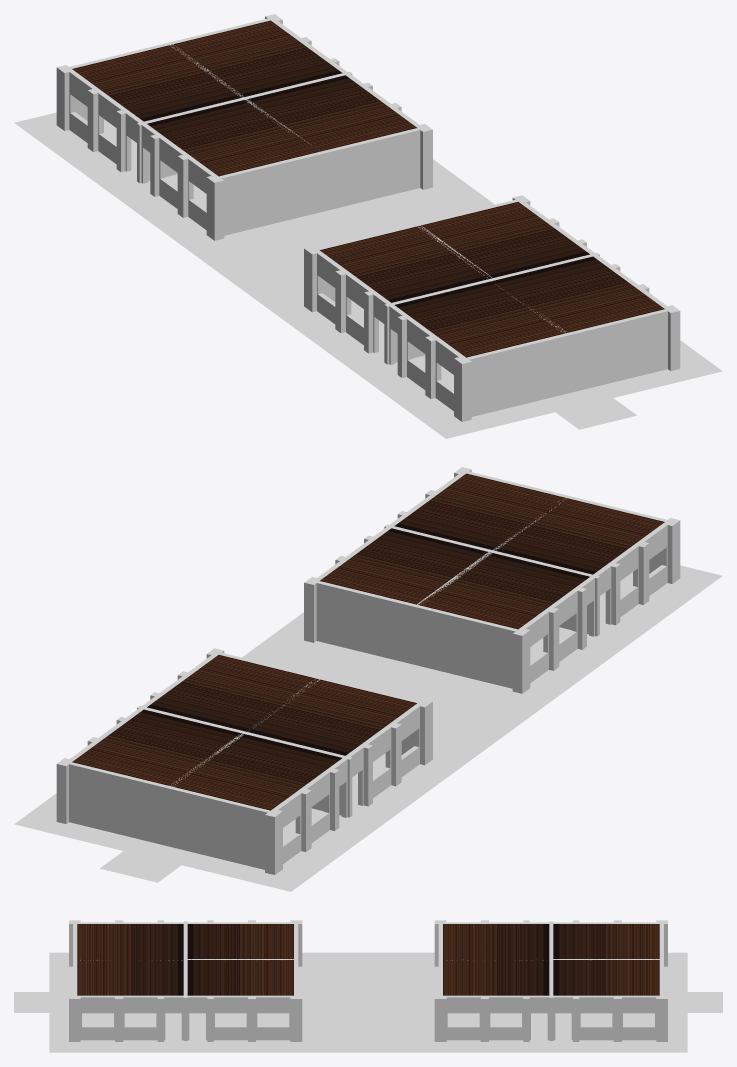
Rendered from test_kelas.fbx.
3 renders of one model, top to bottom at view 1: azimuth 30°, elevation 25°; view 2: azimuth 150°, elevation 25°; view 3: azimuth 270°, elevation 25°, orthographic. The views are drawn at different scales.
Parts seen in each view (by area): view 1: KelasC-3-3, KelasC-3-1, Lantai, KelasC-3-2, KelasC-3-4 Linked; view 2: KelasC-3-4 Linked, KelasC-3-2, Lantai, KelasC-3-1, KelasC-3-3; view 3: Lantai, KelasC-3-3, KelasC-3-2, KelasC-3-1, KelasC-3-4 Linked.
Part boxes in pixels (<box>): KelasC-3-3: <box>137,72,432,240</box>; KelasC-3-1: <box>384,255,680,421</box>; Lantai: <box>14,112,722,438</box>; KelasC-3-2: <box>304,195,599,364</box>; KelasC-3-4 Linked: <box>56,14,352,183</box>; KelasC-3-4 Linked: <box>56,706,352,874</box>; KelasC-3-2: <box>304,524,594,693</box>; Lantai: <box>14,565,722,891</box>; KelasC-3-1: <box>384,467,680,636</box>; KelasC-3-3: <box>137,648,432,817</box>; Lantai: <box>14,952,722,1052</box>; KelasC-3-3: <box>434,920,553,1041</box>; KelasC-3-2: <box>183,920,302,1041</box>; KelasC-3-1: <box>69,920,187,1041</box>; KelasC-3-4 Linked: <box>549,920,667,1041</box>.
Size of the model in its own units: 2000 by 400 by 6000.
